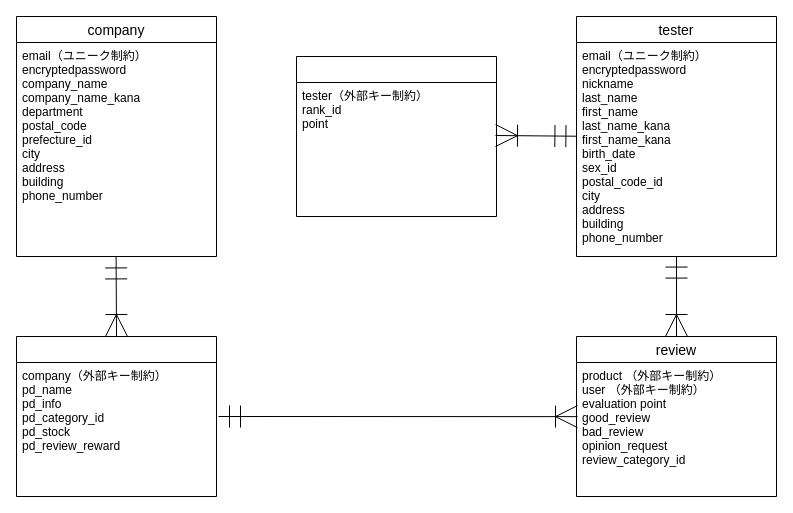
This 793x513 diagram has some shape labels left out. The shapes that lost their labels are listed below. From the top down, each one's box as (x1, y1, x2, y2) in pixels, then its label:
(296, 56, 496, 216): tester_rank
(16, 336, 216, 496): product
